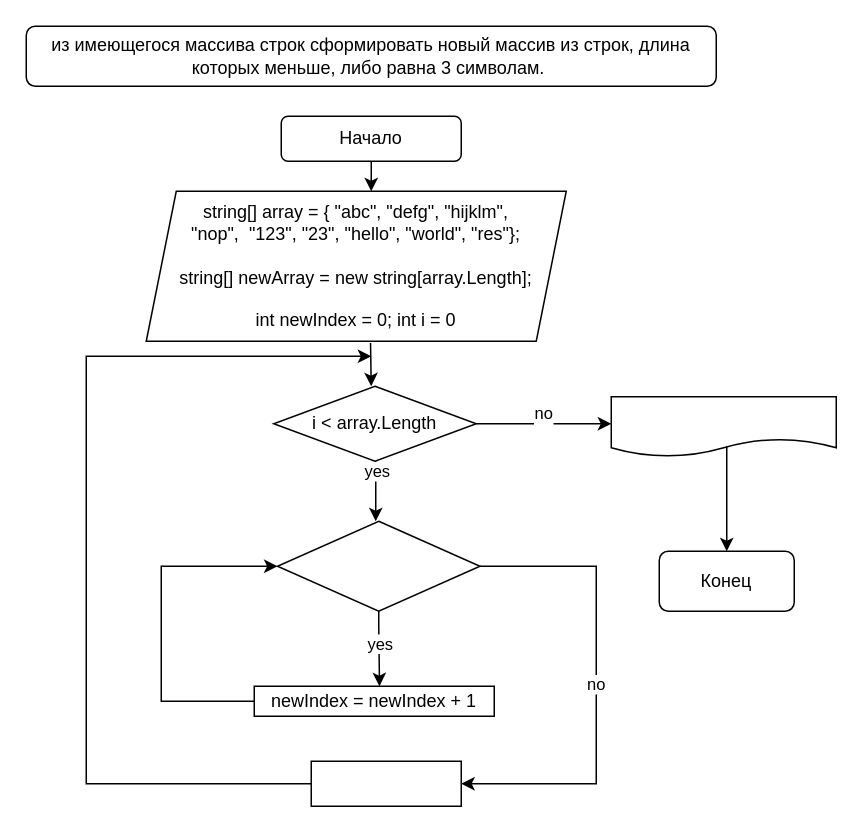
Some shapes in this 863 by 833 pixel diagram are drawn without their labels. The centre of each missing label's shape, as x and y in pixels:
"array[i].Length <= 3" belongs at (x=378, y=565).
"i = i +1" belongs at (x=385, y=783).
"newArray[i]" belongs at (x=723, y=426).
